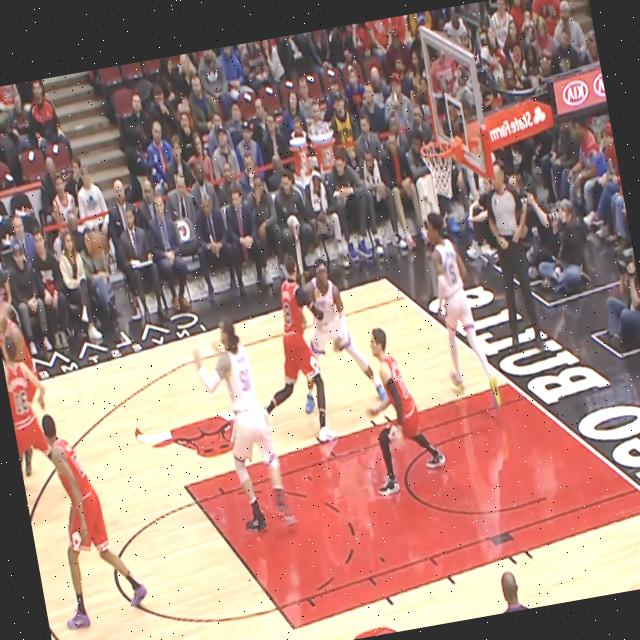no foul: (240, 236, 394, 474)
